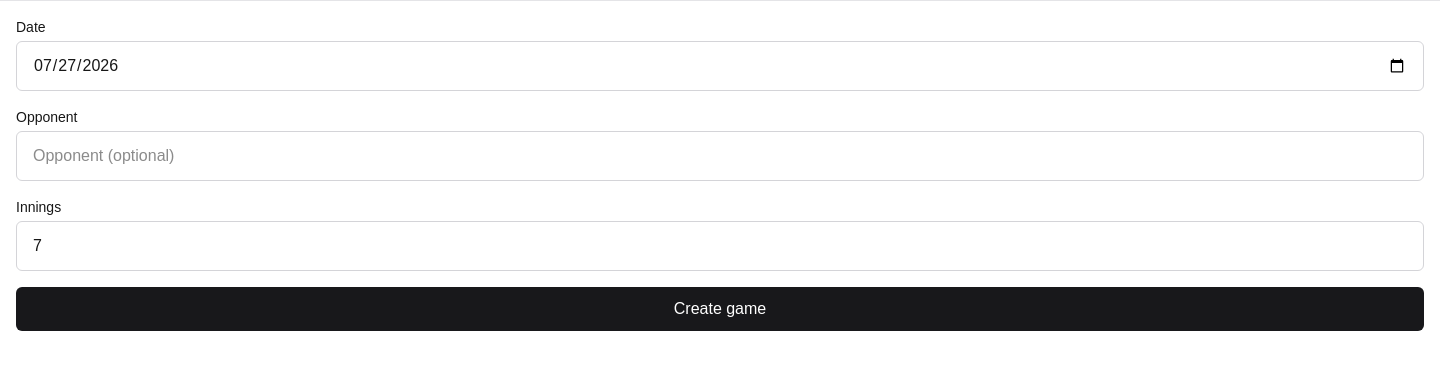
Test: NewGameForm › renders the validation error the action returns, in place
The width and height of the screenshot is (1440, 384).
Click the button "Create game" at [720, 309], box top-left (16, 287), bottom-right (1424, 331)
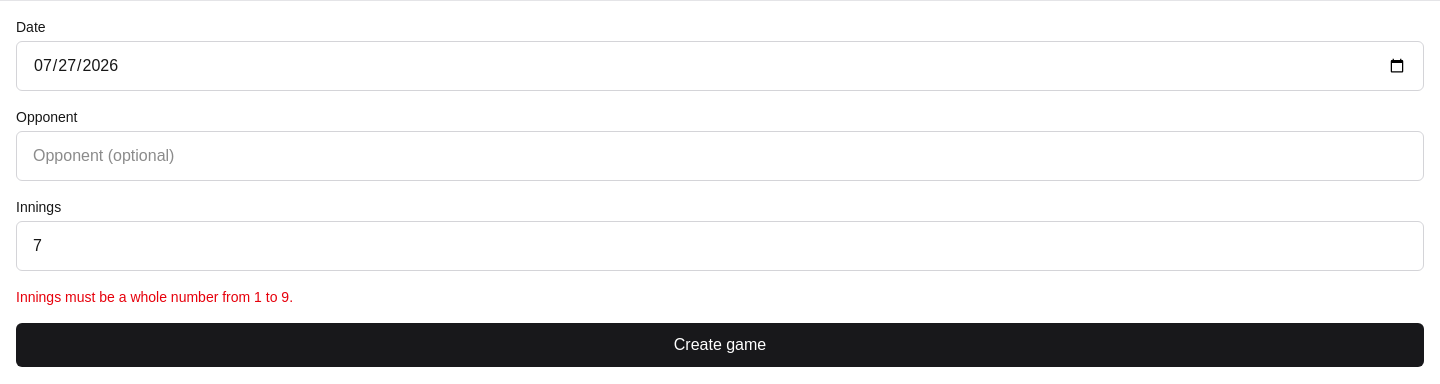
Result: the message reads "Innings must be a whole number from 1 to 9." at top-left (16, 289), bottom-right (293, 305)
